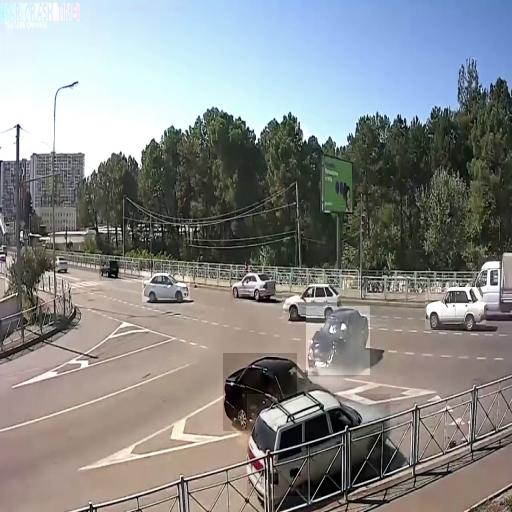小汽车: (247, 394, 390, 496), (223, 353, 297, 431), (306, 306, 370, 375), (425, 288, 486, 330), (282, 284, 340, 324), (478, 255, 512, 314), (142, 270, 190, 302), (230, 272, 276, 302), (99, 258, 121, 281)
